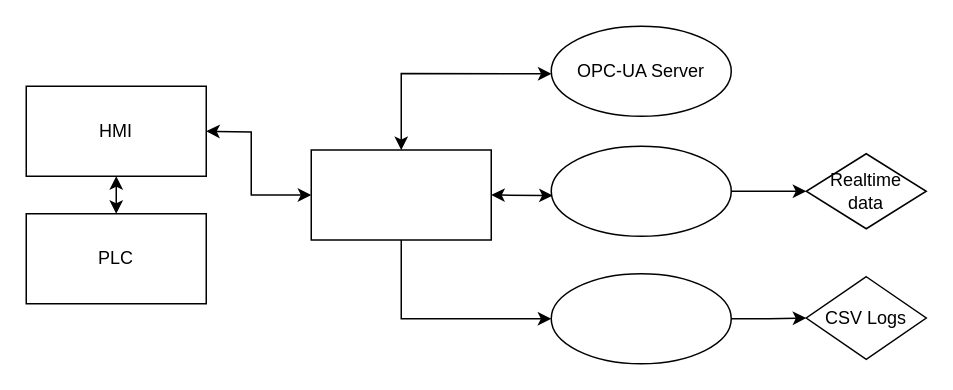
The diagram is 953 pixels wide and 390 high, and some of its shapes have lost their labels. Each missing label, with the centre of its shape:
"4.0 Gateway" belongs at point (400, 194).
"Data Logger" belongs at point (640, 318).
"Web Application" belongs at point (640, 190).
